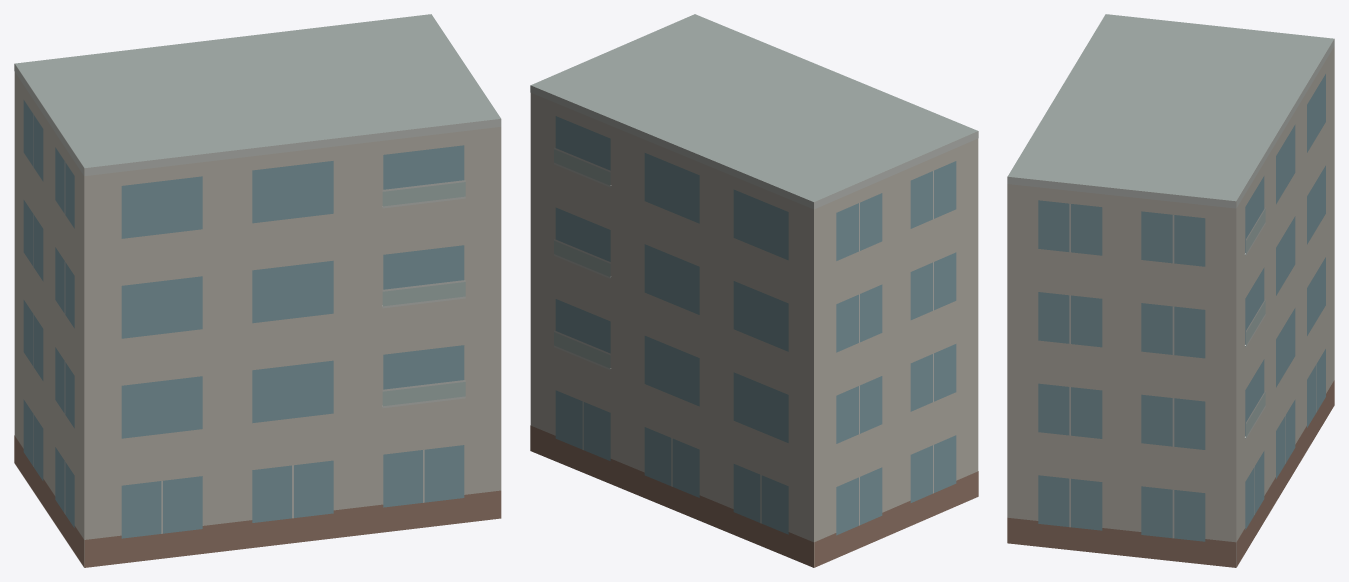
File: residential-532a0a3b-485a-445a-a05b-2705cdc8e507.glb
3 renders of one model, left to right at view 1: azimuth 30°, elevation 25°; view 2: azimuth 150°, elevation 25°; view 3: azimuth 270°, elevation 25°, orthographic. The views are drawn at different scales.
Visible parts, largest first — view 1: residential-532a0a3b-485a-445a-a05b-2705cdc8e507.tmp; view 2: residential-532a0a3b-485a-445a-a05b-2705cdc8e507.tmp; view 3: residential-532a0a3b-485a-445a-a05b-2705cdc8e507.tmp.
Boxes of the visible parts, <box> form: residential-532a0a3b-485a-445a-a05b-2705cdc8e507.tmp: <box>14,14,501,567</box>; residential-532a0a3b-485a-445a-a05b-2705cdc8e507.tmp: <box>530,14,978,567</box>; residential-532a0a3b-485a-445a-a05b-2705cdc8e507.tmp: <box>1007,14,1334,567</box>.
Bounding box in the file's own units: 13.37 × 12.2 × 9.87.
